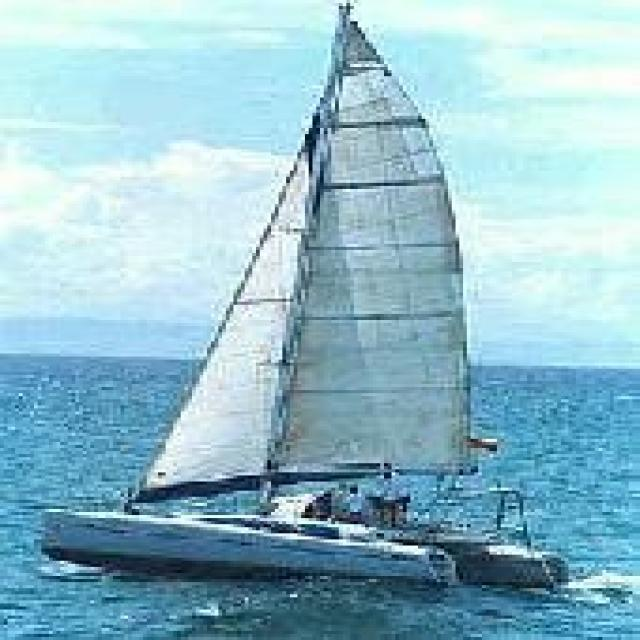Ship: (51, 12, 578, 593)
